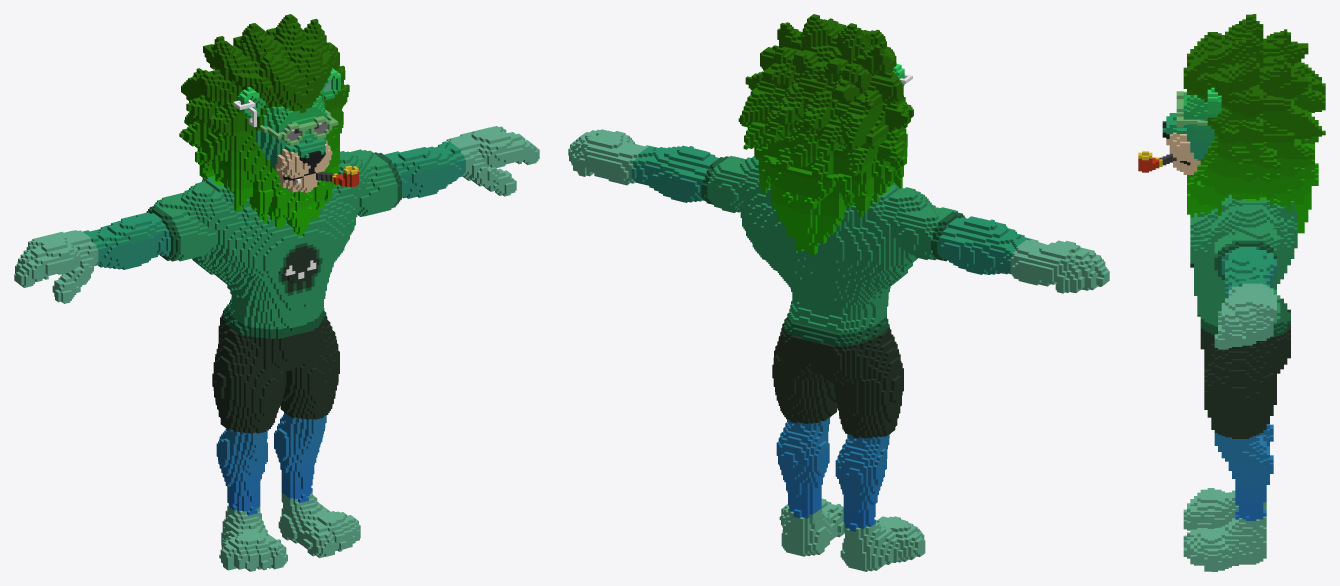
The model's file is 748-CxMmwYRT.glb.
3 renders of one model, left to right at view 1: azimuth 30°, elevation 25°; view 2: azimuth 150°, elevation 25°; view 3: azimuth 270°, elevation 25°, orthographic. The views are drawn at different scales.
Parts seen in each view (by area): view 1: pipe; view 2: pipe; view 3: pipe.
Boxes of the visible parts, x1,y1,x2,y2 form: pipe: (14,14,539,571); pipe: (568,14,1109,571); pipe: (1138,14,1325,571).
Bounding box in the file's own units: 17.2 × 16.5 × 5.4.
Materials: 6 (6 with a texture image).
